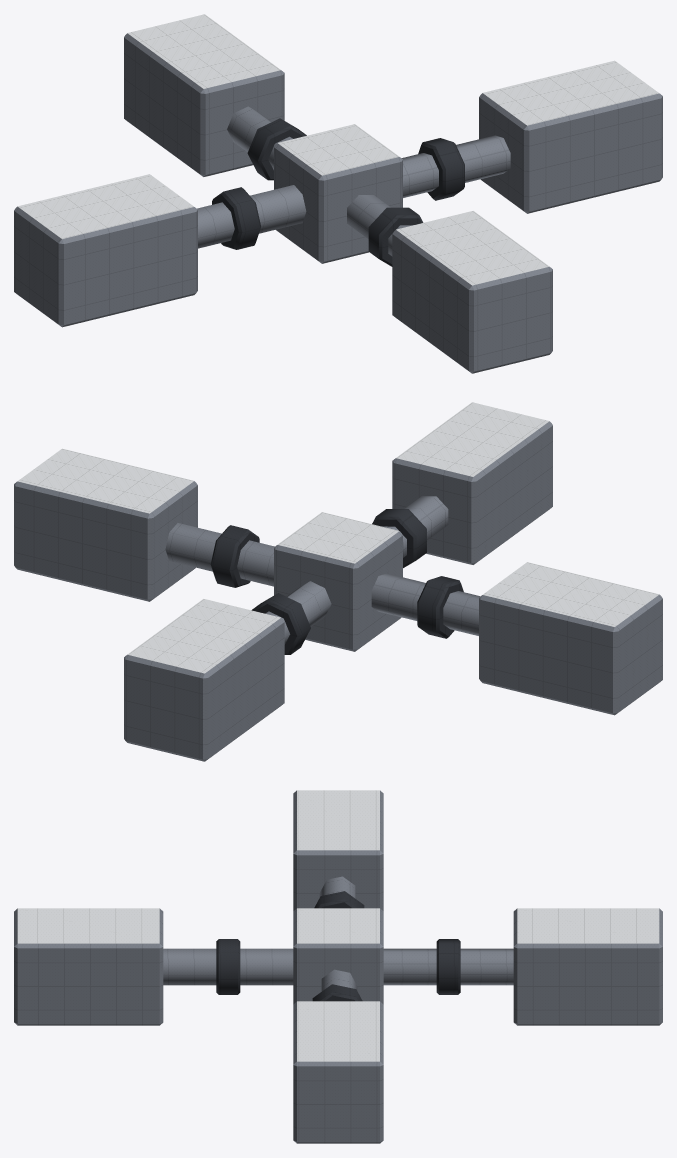
File: R4C_ROD_PLUS_LOD1.glb
3 renders of one model, top to bottom at view 1: azimuth 30°, elevation 25°; view 2: azimuth 150°, elevation 25°; view 3: azimuth 270°, elevation 25°, orthographic. The views are drawn at different scales.
Visible parts, largest first — view 1: R4C_ROD_PLUS_LOD1; view 2: R4C_ROD_PLUS_LOD1; view 3: R4C_ROD_PLUS_LOD1.
Part boxes in pixels (<box>): R4C_ROD_PLUS_LOD1: <box>14,14,662,373</box>; R4C_ROD_PLUS_LOD1: <box>14,402,662,761</box>; R4C_ROD_PLUS_LOD1: <box>14,790,662,1143</box>.
Bounding box in the file's own units: 1.62 × 0.226 × 1.62.
Materials: 3 (3 with a texture image).
